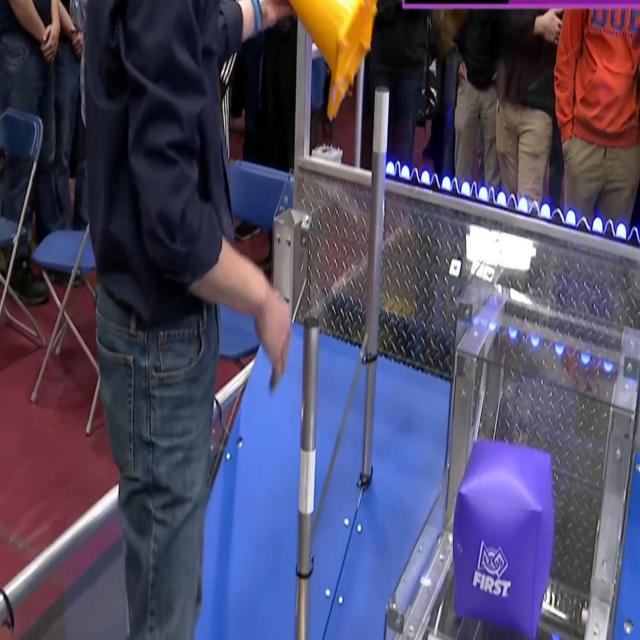frc_cone: (282, 0, 378, 119)
frc_cube: (454, 442, 554, 634)
